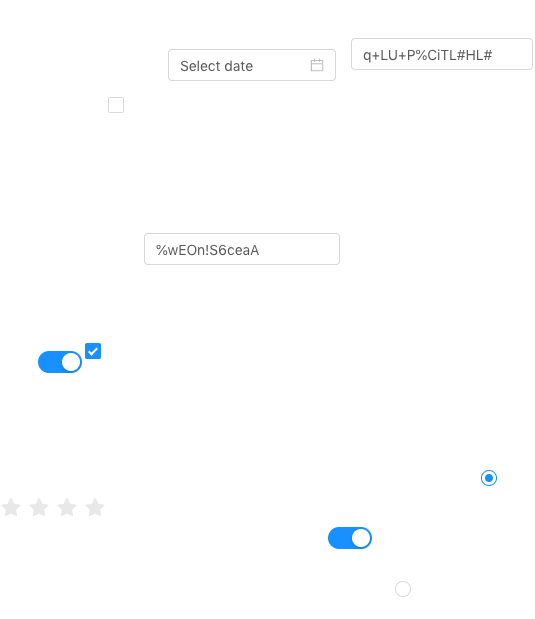Checkbox: (85, 340, 101, 361), (108, 94, 124, 115)
DatePicker: (168, 49, 336, 81)
Input: (144, 233, 340, 265), (351, 38, 533, 70)
Radio: (481, 467, 497, 487), (395, 578, 411, 598)
Rate: (1, 491, 121, 523)
Switch: (38, 350, 82, 374), (328, 526, 372, 550)
